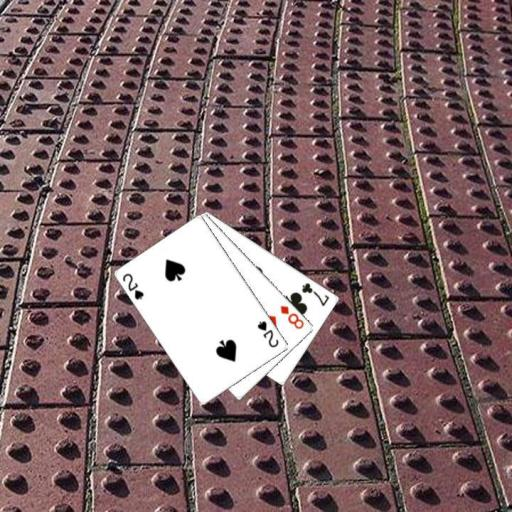2S: (119, 270, 146, 302), (255, 318, 280, 349)
7C: (299, 279, 331, 308)
8D: (277, 302, 306, 331)
